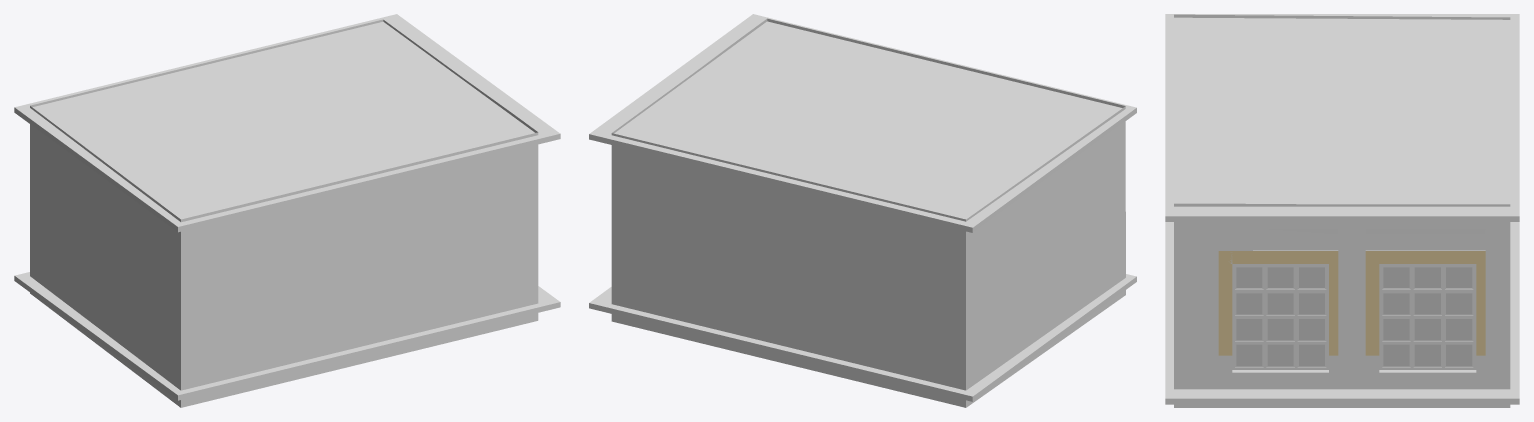
The model's file is FloorPlan209.fbx.
3 views of the same model, side by side, from view 1: azimuth 30°, elevation 25°; view 2: azimuth 150°, elevation 25°; view 3: azimuth 270°, elevation 25° (orthographic). The views are drawn at different scales.
Parts seen in each view (by area): view 1: Cube.916, Cube.935, Cube.934; view 2: Cube.916, Cube.935, Cube.934; view 3: Cube.935, Cube.916, Cube.934.
Boxes of the visible parts, x1,y1,x2,y2 form: Cube.916: [30, 19, 538, 407]; Cube.935: [14, 14, 560, 232]; Cube.934: [14, 272, 560, 400]; Cube.916: [611, 18, 1125, 407]; Cube.935: [589, 14, 1136, 232]; Cube.934: [589, 274, 1136, 401]; Cube.935: [1165, 14, 1519, 221]; Cube.916: [1174, 14, 1510, 407]; Cube.934: [1165, 222, 1519, 404].
Bounding box in the file's own units: 841 × 396 × 623.
